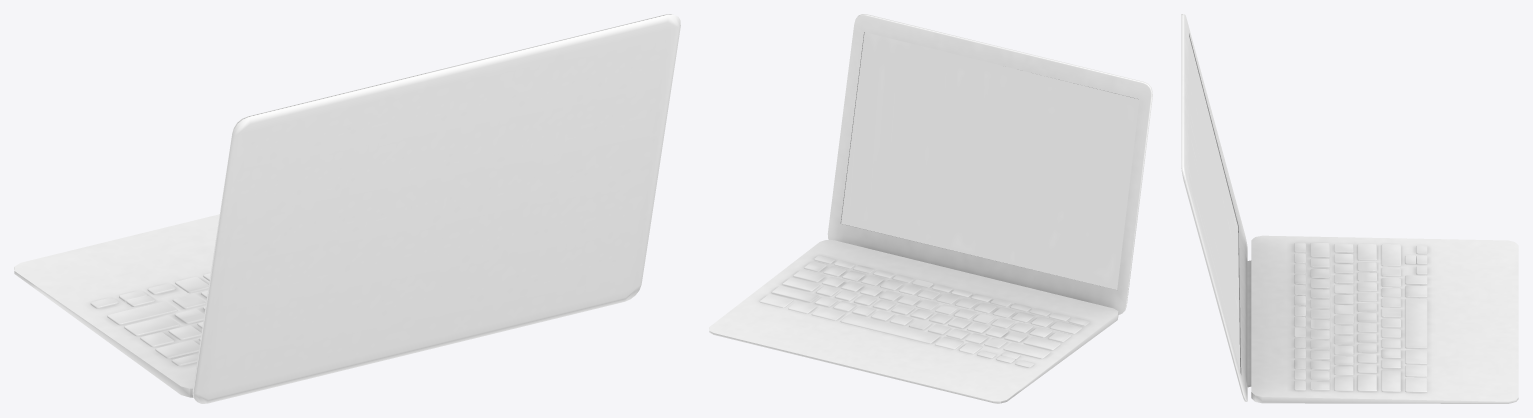
The model's file is Laptop.glb.
The picture shows the model from 3 angles, left to right: view 1: azimuth 30°, elevation 25°; view 2: azimuth 150°, elevation 25°; view 3: azimuth 270°, elevation 25°; orthographic projection. The views are drawn at different scales.
Parts seen in each view (by area): view 1: Laptop; view 2: Laptop; view 3: Laptop.
Part boxes in pixels (<box>): Laptop: <box>14,14,680,403</box>; Laptop: <box>709,14,1152,403</box>; Laptop: <box>1181,14,1518,403</box>.
Bounding box in the file's own units: 0.2807 × 0.1938 × 0.2477.
1 material, 1 textured.
